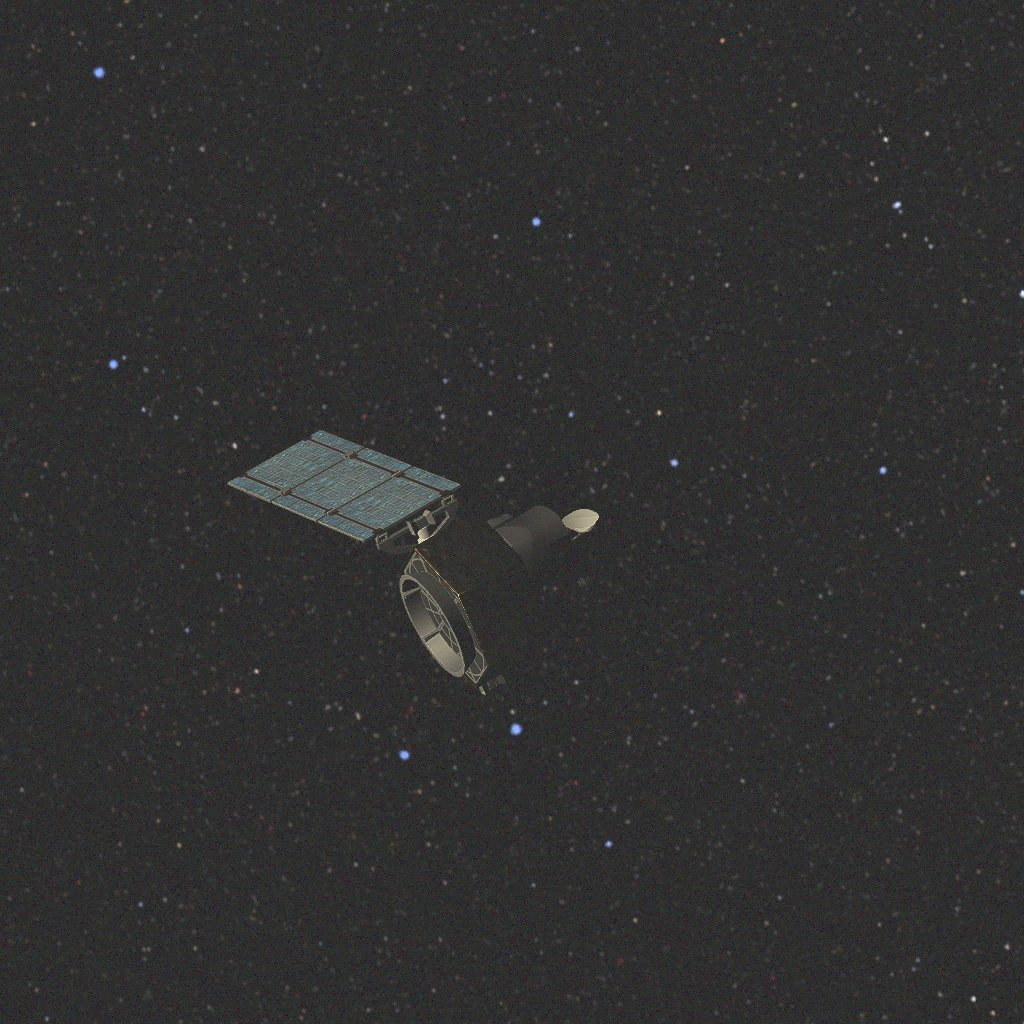earth_observation_sat_1: (228, 430, 600, 695)
